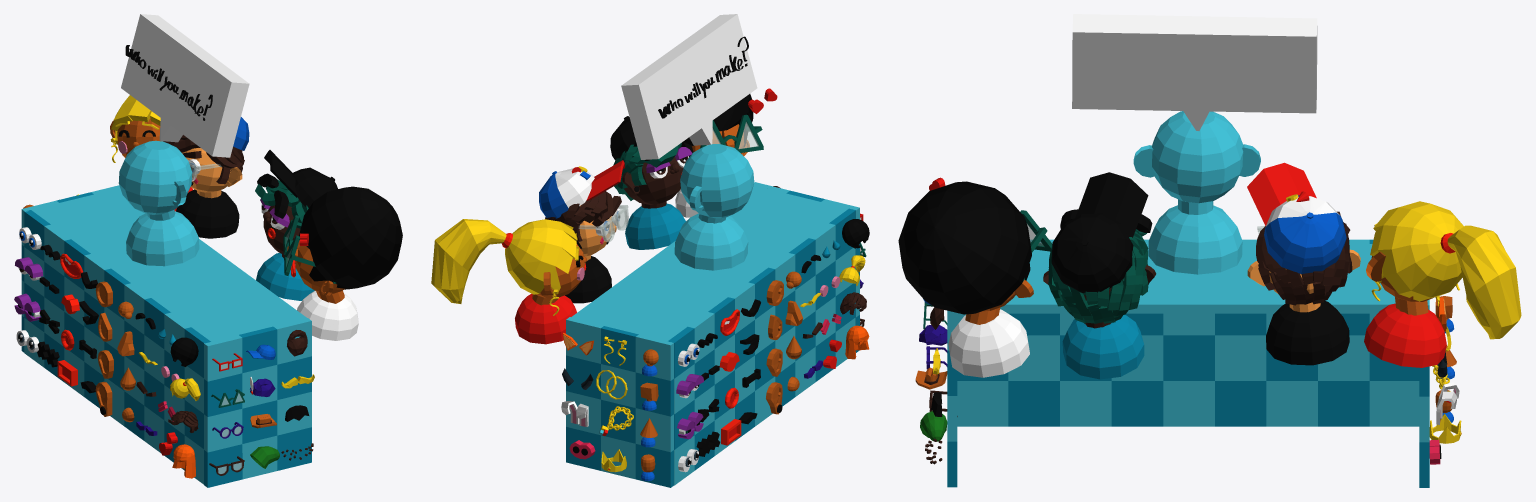
3 renders of one model, left to right at view 1: azimuth 30°, elevation 25°; view 2: azimuth 150°, elevation 25°; view 3: azimuth 270°, elevation 25°, orthographic. The views are drawn at different scales.
Parts seen in each view (by area): view 1: group1373528077, group1592341672, group573957334, group954373362, group280223535, group143192764, group1676931594, group1893166296, group720683099, group854354785, group1241001738, group1408181250 (+48 smaller); view 2: group1592341672, group720683099, group573957334, group143192764, group280223535, group1676931594, group954373362, group1893166296, group1373528077, group1593926574, group2071951325, group1992048800 (+42 smaller); view 3: group1592341672, group1373528077, group720683099, group280223535, group143192764, group573957334, group1893166296, group1676931594, group1881056842, group1539405187, group1445275966, group243065650 (+17 smaller).
Boxes of the visible parts, x1=… form: group1373528077: x1=283, y1=186, x2=402, y2=340; group1592341672: x1=121, y1=14, x2=249, y2=157; group573957334: x1=118, y1=140, x2=199, y2=266; group954373362: x1=151, y1=274, x2=306, y2=341; group280223535: x1=255, y1=150, x2=337, y2=300; group143192764: x1=163, y1=117, x2=249, y2=238; group1676931594: x1=31, y1=188, x2=144, y2=253; group1893166296: x1=91, y1=239, x2=246, y2=297; group720683099: x1=110, y1=95, x2=192, y2=211; group854354785: x1=204, y1=335, x2=242, y2=381; group1241001738: x1=204, y1=409, x2=242, y2=452; group1408181250: x1=204, y1=444, x2=242, y2=487; group1592341672: x1=621, y1=14, x2=757, y2=159; group720683099: x1=431, y1=219, x2=586, y2=344; group573957334: x1=674, y1=144, x2=754, y2=270; group143192764: x1=539, y1=160, x2=628, y2=303; group280223535: x1=610, y1=116, x2=693, y2=249; group1676931594: x1=570, y1=273, x2=727, y2=341; group954373362: x1=730, y1=185, x2=848, y2=252; group1893166296: x1=631, y1=241, x2=787, y2=296; group1373528077: x1=675, y1=88, x2=777, y2=217; group1593926574: x1=601, y1=326, x2=638, y2=372; group2071951325: x1=635, y1=334, x2=673, y2=380; group1992048800: x1=566, y1=317, x2=603, y2=363; group1592341672: x1=1072, y1=14, x2=1317, y2=130; group1373528077: x1=898, y1=177, x2=1052, y2=377; group720683099: x1=1364, y1=201, x2=1521, y2=367; group280223535: x1=1043, y1=172, x2=1156, y2=379; group143192764: x1=1247, y1=162, x2=1360, y2=365; group573957334: x1=1148, y1=111, x2=1243, y2=274; group1893166296: x1=1126, y1=244, x2=1266, y2=313; group1676931594: x1=1266, y1=244, x2=1395, y2=313; group1881056842: x1=1111, y1=381, x2=1163, y2=426; group1539405187: x1=1318, y1=381, x2=1369, y2=426; group1445275966: x1=1266, y1=381, x2=1317, y2=426; group243065650: x1=1215, y1=381, x2=1266, y2=426.
Bounding box in the file's own units: 2.76 × 3.98 × 4.95.
